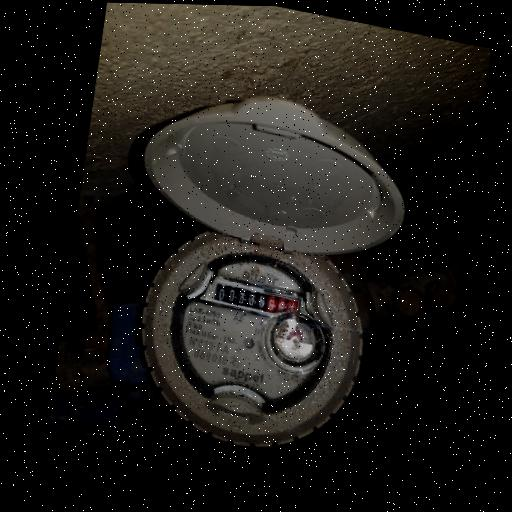0: (212, 282, 229, 302), (224, 285, 239, 304)
1: (285, 298, 298, 314)
3: (244, 290, 258, 309), (234, 288, 248, 306)
5: (254, 291, 268, 311)
6: (273, 295, 288, 315), (264, 295, 277, 313)
border_water_meter_number: (197, 273, 319, 324)
